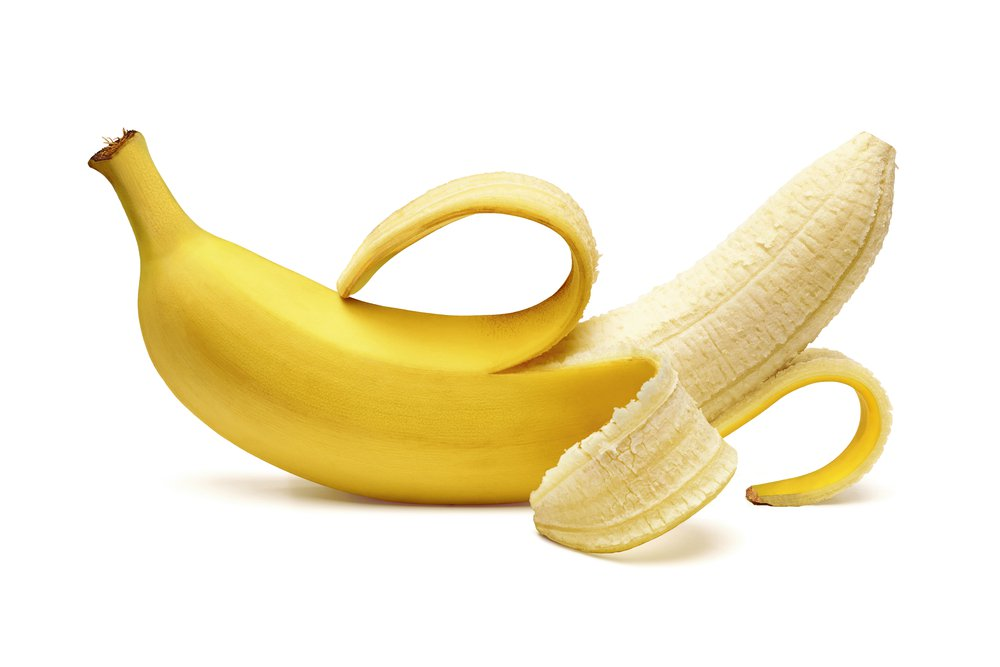banana: (133, 165, 922, 525)
